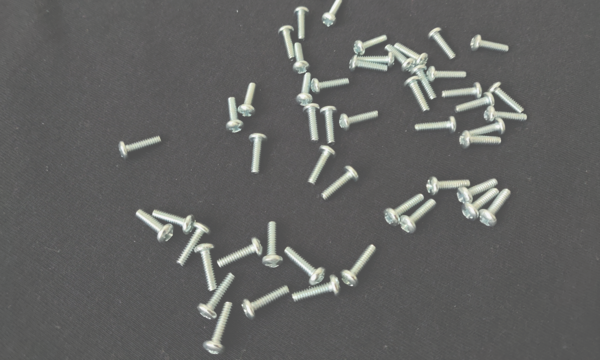shortscrew: (197, 274, 236, 319), (176, 222, 213, 267), (203, 301, 233, 356), (284, 247, 326, 286), (340, 245, 377, 288), (242, 286, 290, 319), (134, 209, 175, 244), (217, 238, 264, 268), (384, 194, 425, 228), (399, 199, 437, 235), (321, 166, 359, 201), (479, 189, 512, 229), (292, 275, 342, 301), (462, 188, 499, 222), (193, 243, 218, 292), (307, 146, 336, 187), (488, 81, 524, 114), (152, 209, 197, 235), (118, 134, 163, 159), (458, 179, 498, 204), (339, 109, 379, 133), (405, 76, 430, 113), (428, 28, 456, 61), (454, 92, 495, 114), (412, 66, 437, 102), (264, 222, 283, 269), (427, 177, 471, 196), (386, 45, 416, 72), (470, 35, 509, 55), (248, 134, 267, 174), (353, 34, 389, 55), (415, 116, 457, 134), (484, 107, 528, 124), (442, 82, 483, 100), (460, 131, 502, 148), (319, 106, 337, 145), (395, 44, 428, 65), (303, 104, 321, 142), (426, 67, 467, 83), (238, 83, 257, 117), (296, 73, 315, 107), (278, 25, 296, 60), (227, 97, 244, 134), (312, 78, 350, 94), (292, 43, 311, 74), (322, 0, 343, 28), (293, 7, 310, 41), (471, 118, 505, 135)
